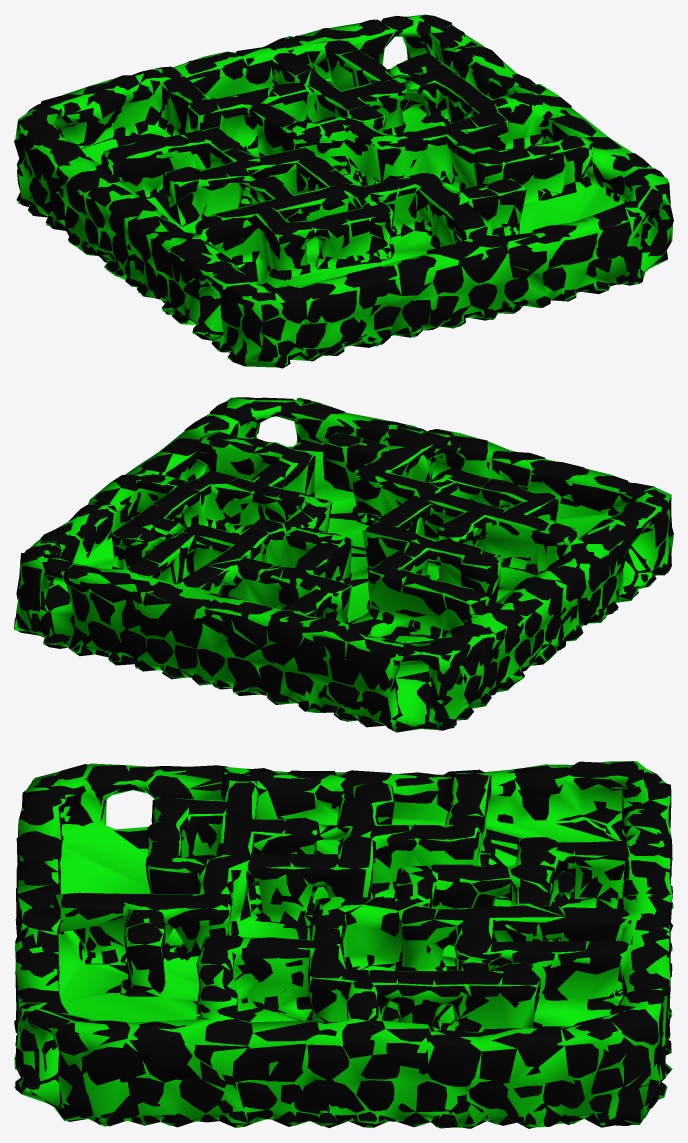
The model's file is FINAL-ARGH-Maze2.fbx.
3 views of the same model, one above another, from view 1: azimuth 30°, elevation 25°; view 2: azimuth 150°, elevation 25°; view 3: azimuth 270°, elevation 25° (orthographic). The views are drawn at different scales.
Parts seen in each view (by area): view 1: mazelow_LOD0, UTM_firegeo; view 2: mazelow_LOD0, UTM_firegeo; view 3: mazelow_LOD0, UTM_firegeo.
Part boxes in pixels (<box>): mazelow_LOD0: <box>14,15,673,368</box>; UTM_firegeo: <box>15,14,672,367</box>; mazelow_LOD0: <box>14,397,673,732</box>; UTM_firegeo: <box>14,397,673,732</box>; mazelow_LOD0: <box>14,761,672,1128</box>; UTM_firegeo: <box>14,761,673,1127</box>.
Size of what is drawn, in the model's own units: 1443 by 271 by 1448.
